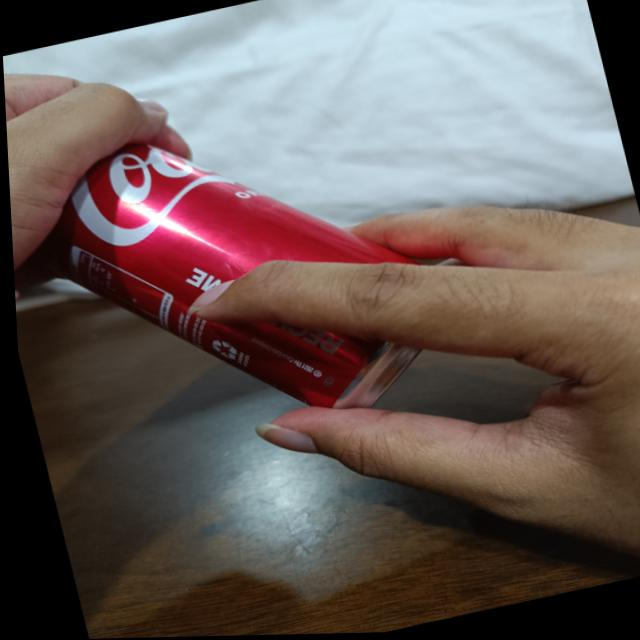coke: (7, 59, 470, 467)
